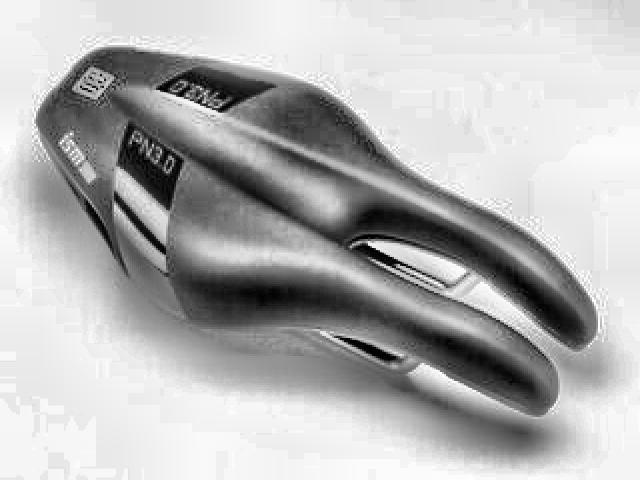saddle: (29, 36, 601, 424)
